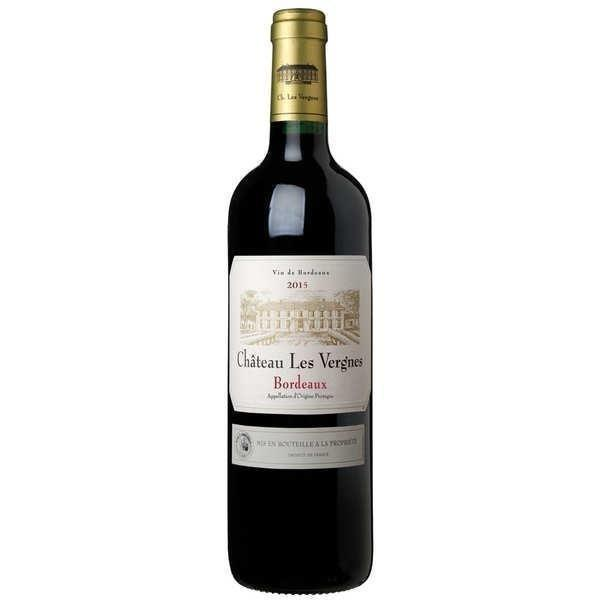bottle-glass: (221, 2, 379, 599)
